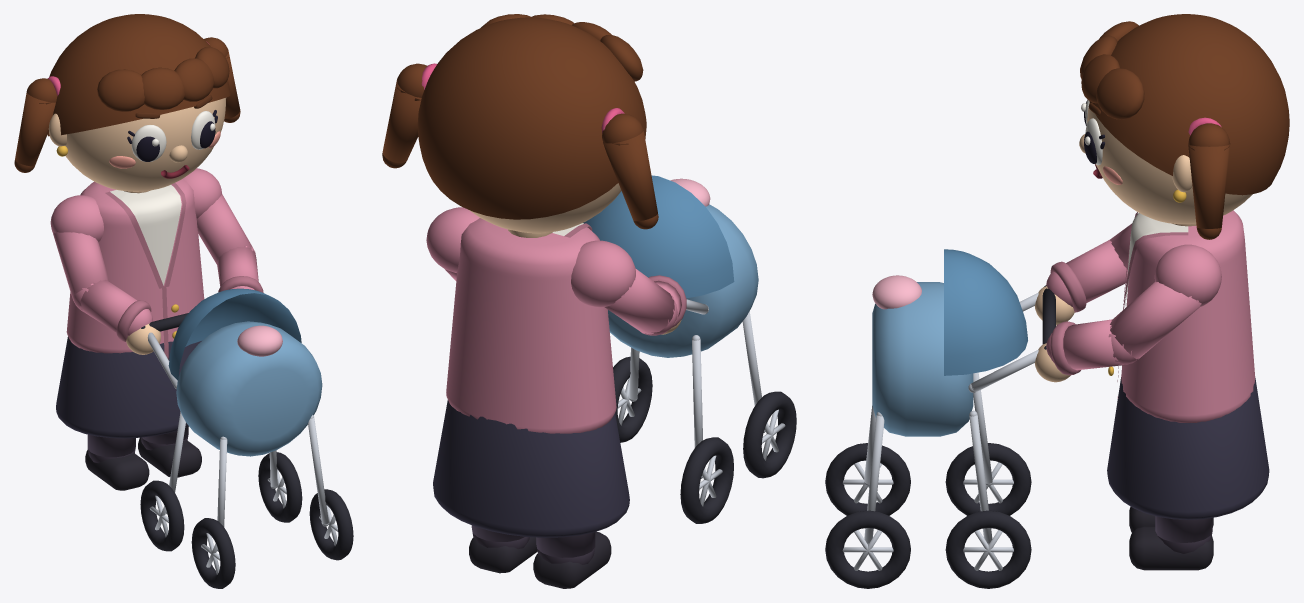
File: ch_passer_mother.fbx
The picture shows the model from 3 angles, left to right: view 1: azimuth 30°, elevation 25°; view 2: azimuth 150°, elevation 25°; view 3: azimuth 270°, elevation 25°; orthographic projection. The views are drawn at different scales.
Visible parts, largest first — view 1: ch_passer_mother__base, ch_passer_mother__anim_leg_l, ch_passer_mother__anim_wheel_lf, ch_passer_mother__anim_wheel_lb, ch_passer_mother__anim_wheel_rb, ch_passer_mother__anim_wheel_rf, ch_passer_mother__anim_leg_r; view 2: ch_passer_mother__base, ch_passer_mother__anim_wheel_lf, ch_passer_mother__anim_wheel_lb, ch_passer_mother__anim_leg_l, ch_passer_mother__anim_leg_r, ch_passer_mother__anim_wheel_rf; view 3: ch_passer_mother__base, ch_passer_mother__anim_wheel_rf, ch_passer_mother__anim_wheel_rb, ch_passer_mother__anim_leg_r, ch_passer_mother__anim_wheel_lf, ch_passer_mother__anim_wheel_lb.
Part boxes in pixels (bbox=[...]): ch_passer_mother__base: bbox=[14, 14, 328, 551]; ch_passer_mother__anim_leg_l: bbox=[85, 434, 149, 490]; ch_passer_mother__anim_wheel_lf: bbox=[191, 518, 235, 588]; ch_passer_mother__anim_wheel_lb: bbox=[140, 480, 184, 551]; ch_passer_mother__anim_wheel_rb: bbox=[258, 452, 302, 522]; ch_passer_mother__anim_wheel_rf: bbox=[309, 489, 353, 560]; ch_passer_mother__anim_leg_r: bbox=[138, 427, 201, 477]; ch_passer_mother__base: bbox=[382, 14, 765, 537]; ch_passer_mother__anim_wheel_lf: bbox=[743, 391, 796, 478]; ch_passer_mother__anim_wheel_lb: bbox=[680, 437, 733, 523]; ch_passer_mother__anim_leg_l: bbox=[533, 531, 611, 588]; ch_passer_mother__anim_leg_r: bbox=[469, 525, 537, 573]; ch_passer_mother__anim_wheel_rf: bbox=[613, 356, 652, 442]; ch_passer_mother__base: bbox=[864, 14, 1289, 544]; ch_passer_mother__anim_wheel_rf: bbox=[825, 510, 910, 588]; ch_passer_mother__anim_wheel_rb: bbox=[945, 510, 1031, 588]; ch_passer_mother__anim_leg_r: bbox=[1129, 516, 1213, 570]; ch_passer_mother__anim_wheel_lf: bbox=[825, 443, 910, 515]; ch_passer_mother__anim_wheel_lb: bbox=[945, 443, 1031, 515].
Bounding box in the file's own units: 0.792 × 1.53 × 1.21.
